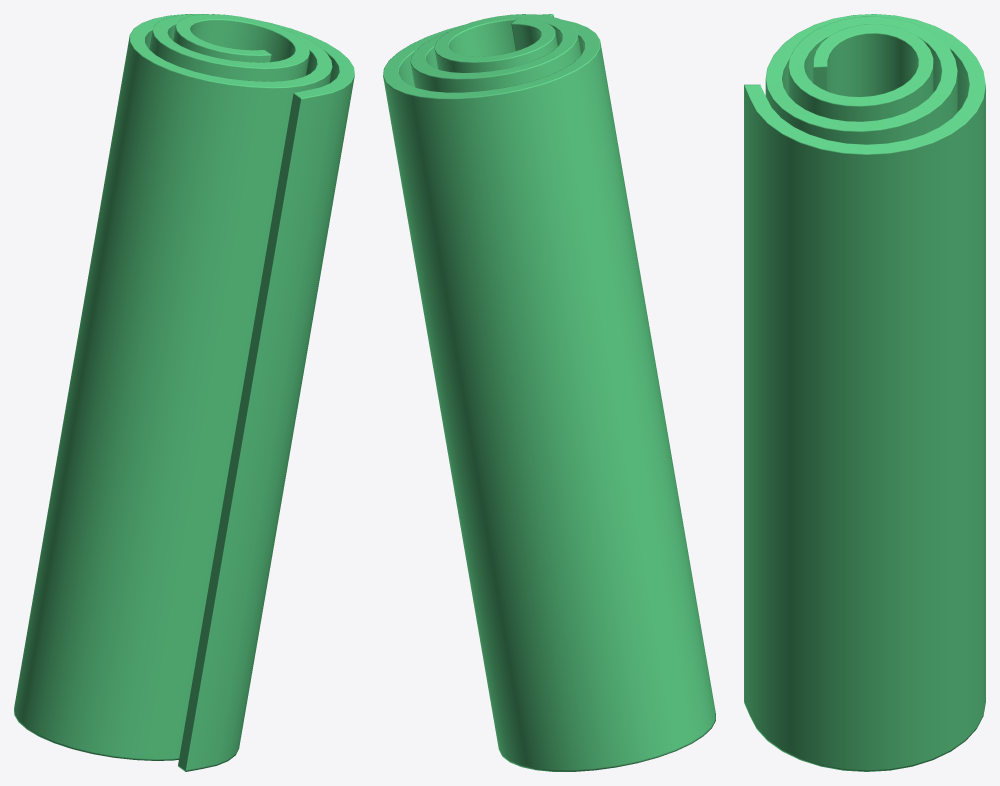
The model's file is yoga_mat-opt.glb.
3 renders of one model, left to right at view 1: azimuth 30°, elevation 25°; view 2: azimuth 150°, elevation 25°; view 3: azimuth 270°, elevation 25°, orthographic. The views are drawn at different scales.
Visible parts, largest first — view 1: Object_2; view 2: Object_2; view 3: Object_2.
Boxes of the visible parts, bbox=[...] form: Object_2: bbox=[14, 14, 354, 771]; Object_2: bbox=[383, 14, 715, 771]; Object_2: bbox=[744, 14, 985, 771].
Bounding box in the file's own units: 34.54 × 74.2 × 22.31.
